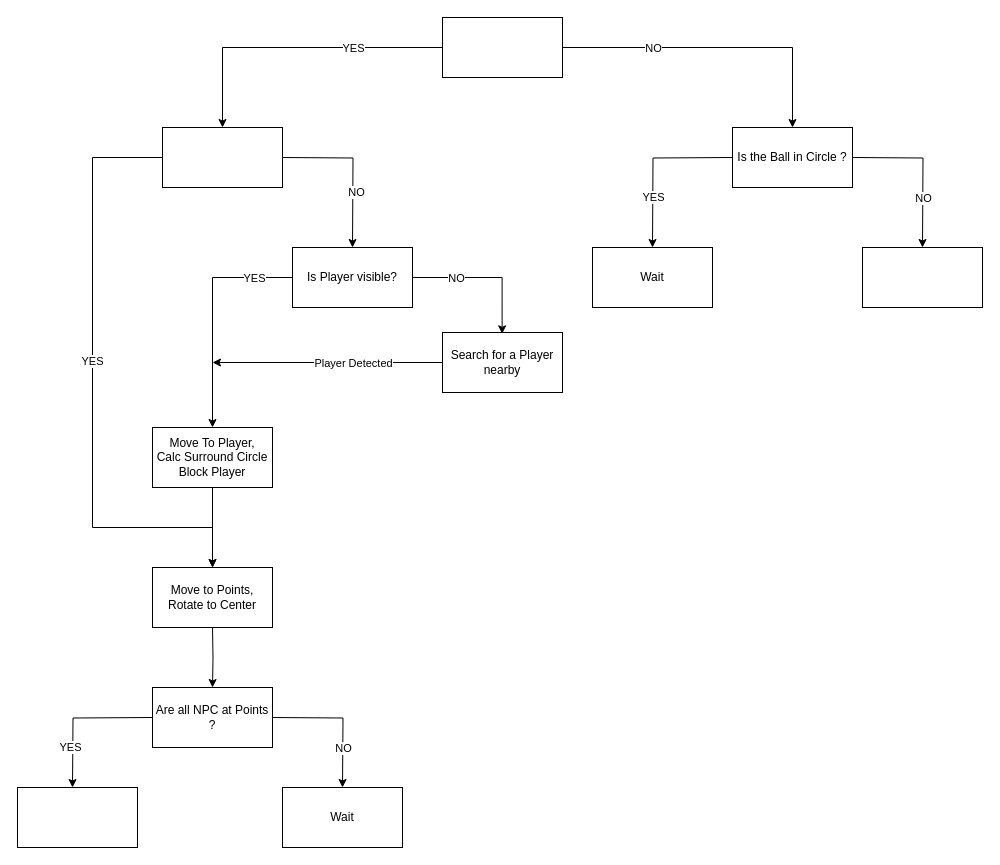
Image size: 1000x865. Some labels were removed from this diagram. Here are the shapes that lost their labels. From the top down, the box of each, then its label:
(442, 16, 562, 78): Does NPC have the Ball ?
(162, 126, 282, 188): Is Player Blocked?
(862, 246, 982, 308): Run to the Ball Pick up the Ball
(16, 786, 138, 848): Drop the Ball, Unblock Player
